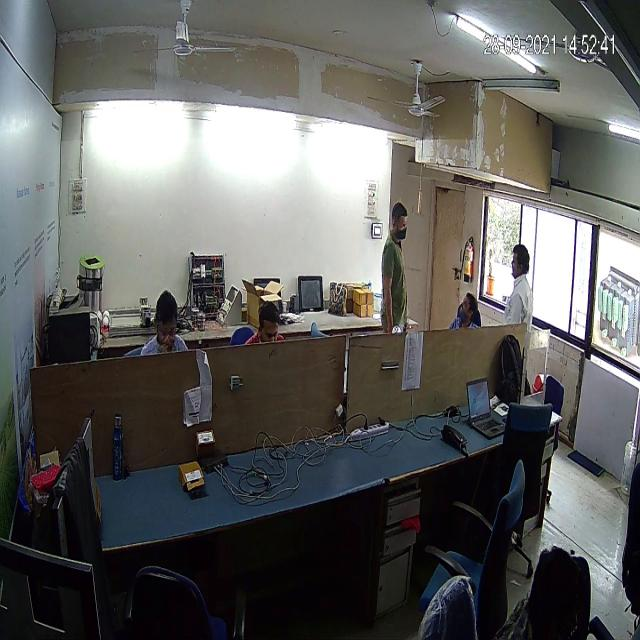adult: (366, 179, 424, 358)
